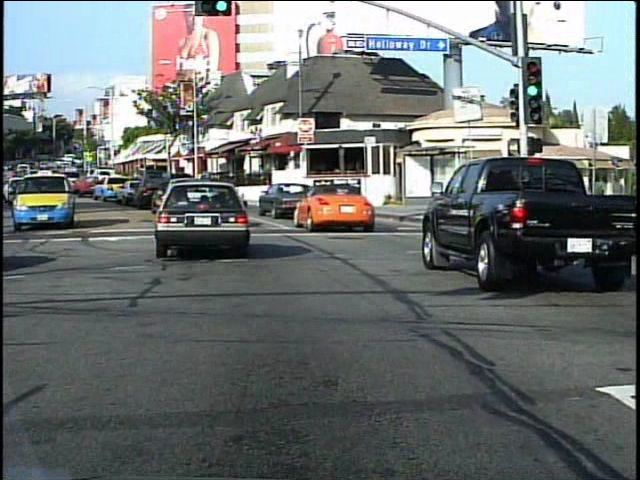person: (588, 186, 611, 254)
